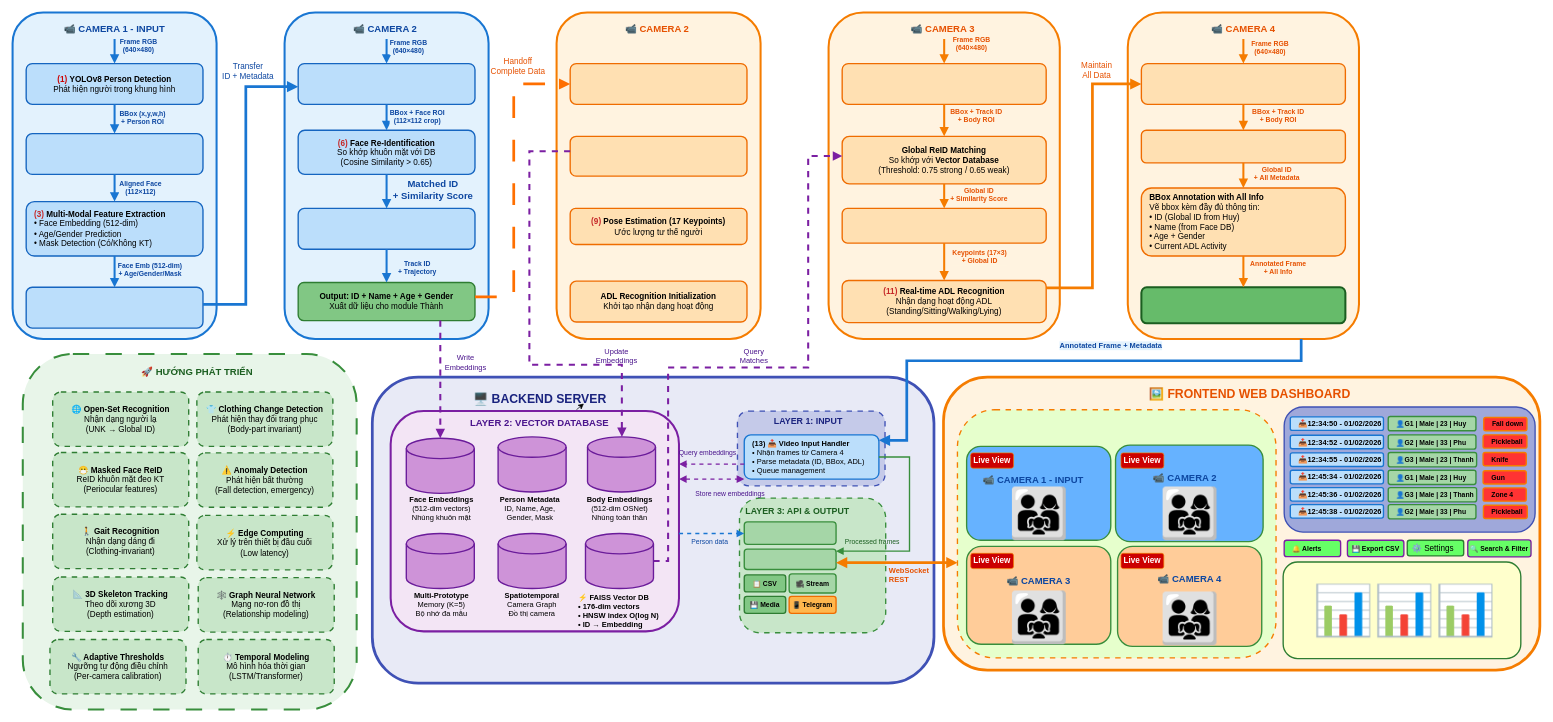
The diagram is 1553 pixels wide and 722 high, and some of its shapes have lost their labels. Each missing label, with the box of its shape:
(10) YOLOv11 Detection + ByteTrack Phát hiện và theo dõi người: (841, 63, 1047, 105)
(12) 🎯 FINAL OUTPUT Video với bbox đầy đủ thông tin: (1140, 286, 1346, 324)
(2) Face Detection + Alignment Phát hiện và căn chỉnh khuôn mặt: (25, 133, 203, 175)
(4) Initial ID Assignment Gán ID ban đầu (001): (25, 286, 203, 328)
(5) YOLOv8 Person Detection Phát hiện người mới: (297, 63, 475, 105)
(7) ByteTrack Multi-Object Tracking Theo dõi quỹ đạo người di chuyển: (297, 207, 475, 250)
(8) Deep ReID Feature Extraction Trích xuất đặc trưng toàn thân (OSNet 512-dim): (569, 135, 747, 176)
Continuous Pose Tracking Theo dõi tư thế liên tục: (841, 207, 1047, 243)
Final ReID Verification Xác minh cuối cùng với DB: (1140, 129, 1346, 163)
Receive from Huy Module Nhận ID + Metadata từ Huy: (569, 63, 747, 105)
YOLOv11 Detection + ByteTrack Phát hiện và theo dõi người: (1140, 63, 1346, 105)
🌐 WebSocket /ws/events: (743, 548, 836, 570)
🔌 REST API /persons, /events: (743, 521, 836, 545)
